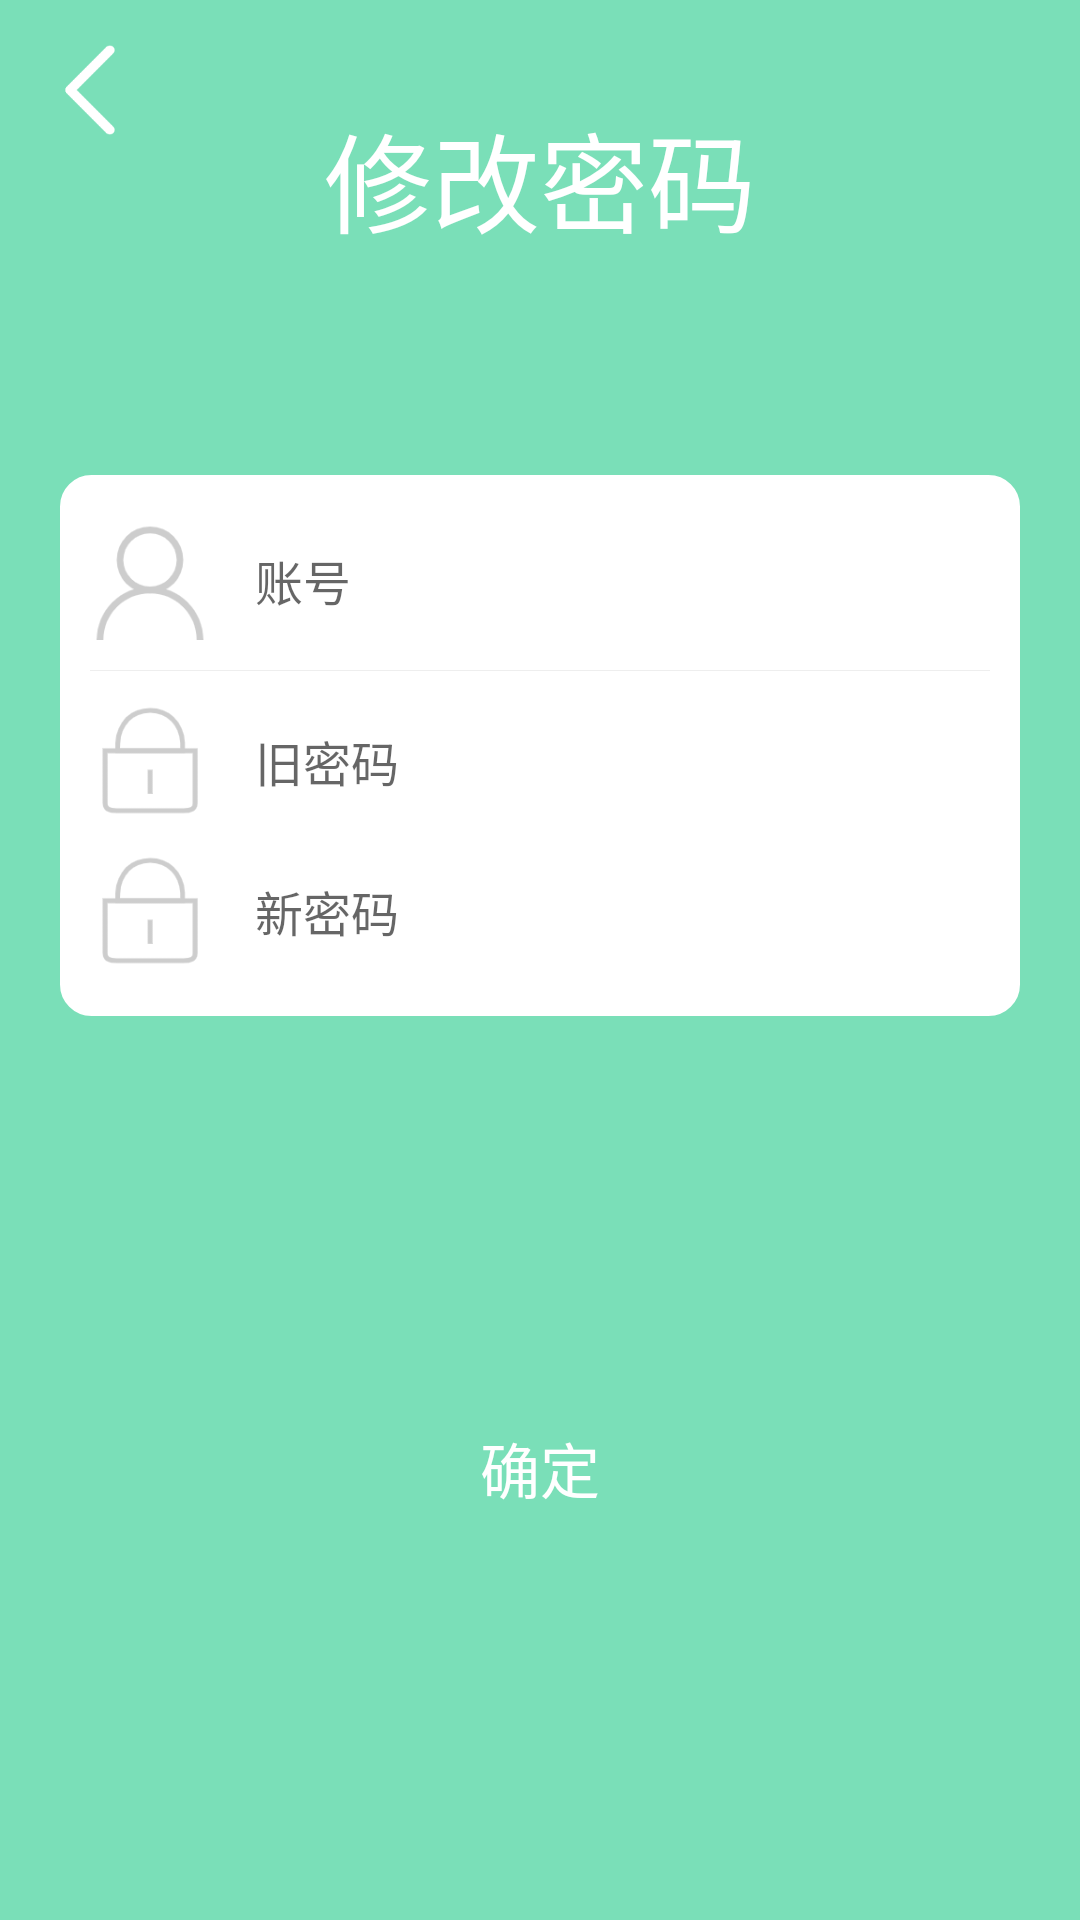

Screen size 1080 x 1920. Icon name, then its box in pixels as (x1, y1, x2, y2):
fanhu: (65, 45, 115, 135)
user: (97, 527, 203, 640)
